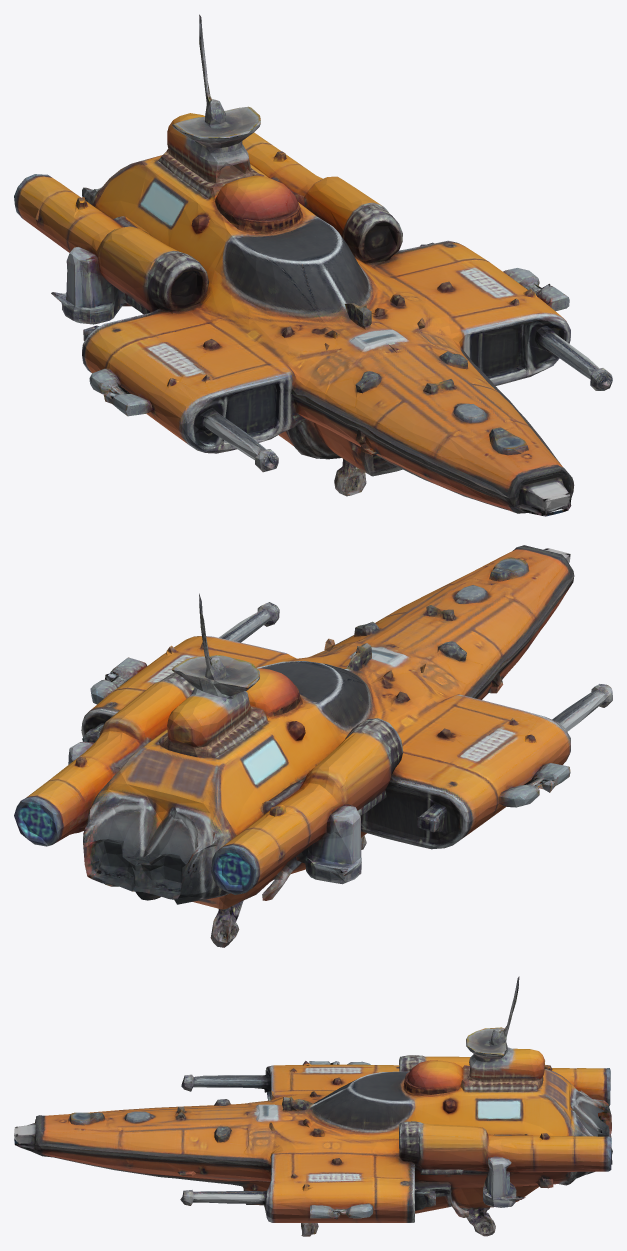
The model's file is Guardsman Patrol Ship.glb.
3 renders of one model, top to bottom at view 1: azimuth 30°, elevation 25°; view 2: azimuth 150°, elevation 25°; view 3: azimuth 270°, elevation 25°, orthographic. The views are drawn at different scales.
Visible parts, largest first — view 1: world; view 2: world; view 3: world.
Part boxes in pixels (left/top/right/bottom): world: left=14, top=14, right=612, bottom=516; world: left=14, top=545, right=612, bottom=947; world: left=14, top=976, right=612, bottom=1236.
Size of the model in its own units: 0.6038 by 0.4773 by 0.9993.
Materials: 1 (1 with a texture image).
